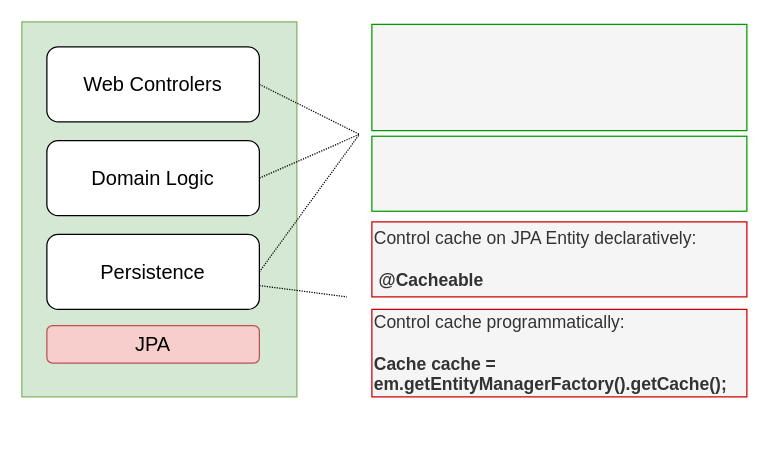
Some shapes in this 769 by 475 pixel diagram are drawn without their labels. The box of each missing label's shape, as (x1, y1, x2, y2) in pixels:
Control cache on method level declaratively: @Cacheable @CachePut @CacheEvict: (371, 23, 747, 131)
Control cache programmatically: org.springframework.cache.CacheManager: (371, 135, 747, 211)
Spring Application: @EnableCaching: (21, 21, 297, 397)
